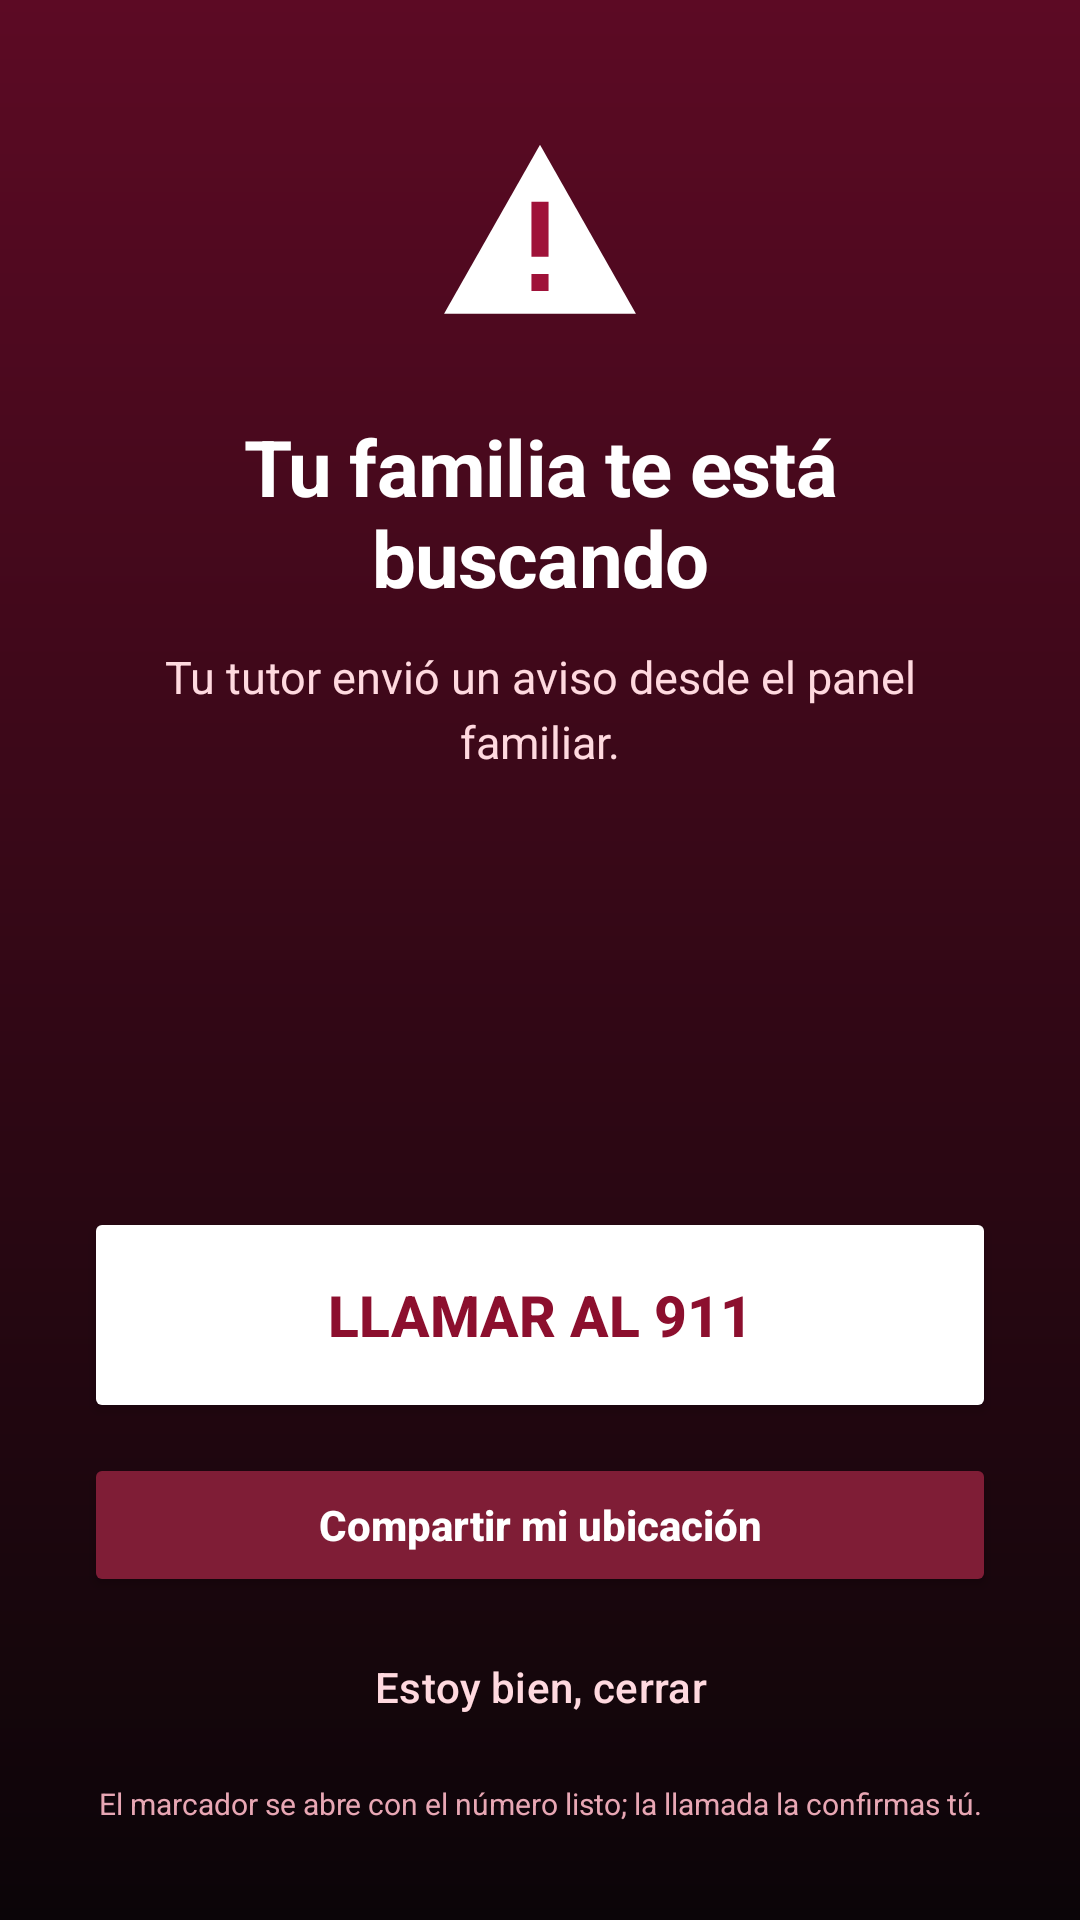

Named icons in this screenshot (1080 × 1920) and their bounding boxes, (x1, y1, x2, y2):
Aviso: (444, 145, 636, 314)
